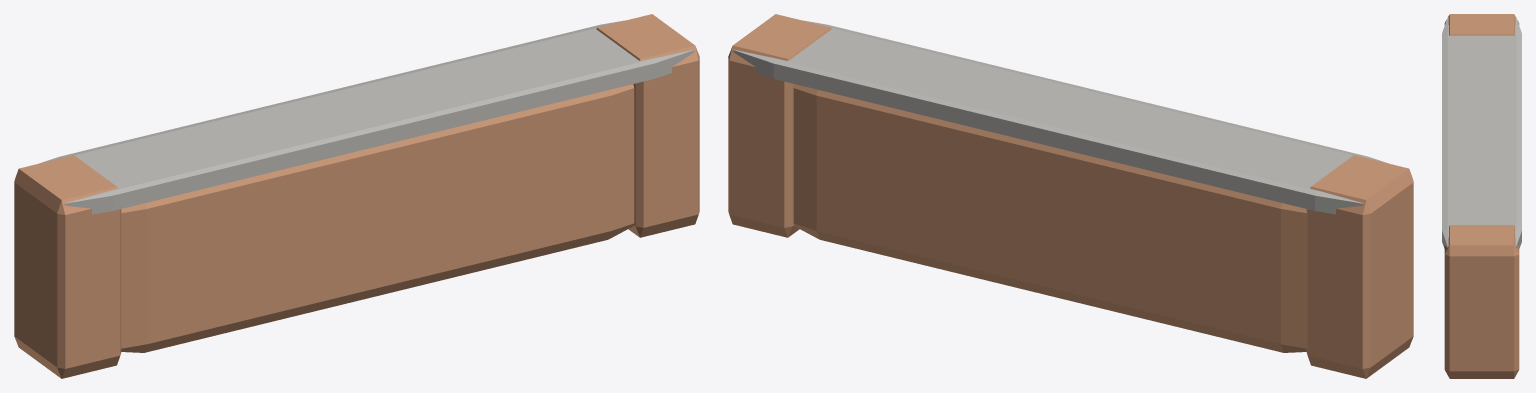
The model's file is b19_stepped_block_retaining_wall.glb.
The picture shows the model from 3 angles, left to right: view 1: azimuth 30°, elevation 25°; view 2: azimuth 150°, elevation 25°; view 3: azimuth 270°, elevation 25°; orthographic projection. The views are drawn at different scales.
Parts seen in each view (by area): view 1: b19_stepped_block_retaining_wall; view 2: b19_stepped_block_retaining_wall; view 3: b19_stepped_block_retaining_wall.
Boxes of the visible parts, bbox=[...] form: b19_stepped_block_retaining_wall: bbox=[14, 14, 699, 378]; b19_stepped_block_retaining_wall: bbox=[728, 14, 1413, 378]; b19_stepped_block_retaining_wall: bbox=[1442, 14, 1521, 378].
Bounding box in the file's own units: 3.62 × 0.963 × 0.52.
